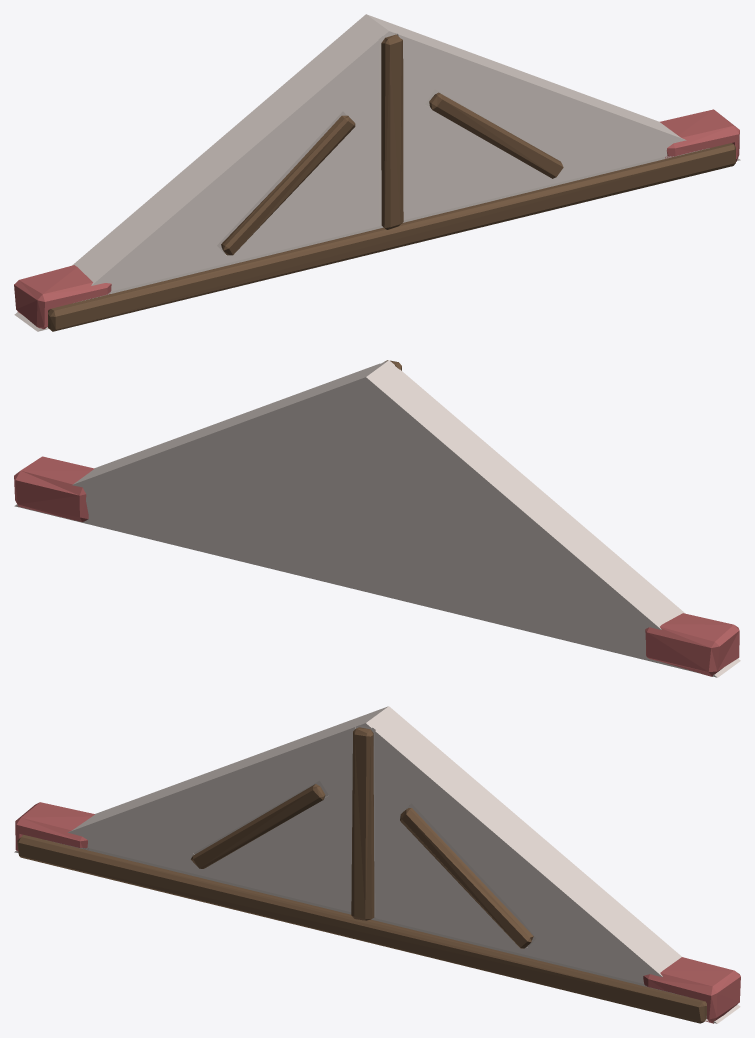
Rendered from PKF_PKX_Gable_4m_v2.fbx.
3 renders of one model, top to bottom at view 1: azimuth 30°, elevation 25°; view 2: azimuth 150°, elevation 25°; view 3: azimuth 330°, elevation 25°, orthographic.
Parts seen in each view (by area): view 1: PKX_Gable_4m_Chunk_12, PKX_Gable_4m_Chunk_02, PKX_Gable_4m_Chunk_07, PKX_Gable_4m_Chunk_01, PKX_Gable_4m_Chunk_06, PKX_Gable_4m_Chunk_10, PKX_Gable_4m_Chunk_04, PKX_Gable_4m_Chunk_09, PKX_Gable_4m_Chunk_03, PKX_Gable_4m_Chunk_11, PKX_Gable_4m_Chunk_15, PKX_Gable_4m_Chunk_08 (+4 smaller); view 2: PKX_Gable_4m_Chunk_02, PKX_Gable_4m_Chunk_01, PKX_Gable_4m_Chunk_07, PKX_Gable_4m_Chunk_06, PKX_Gable_4m_Chunk_10, PKX_Gable_4m_Chunk_04, PKX_Gable_4m_Chunk_03, PKX_Gable_4m_Chunk_11, PKX_Gable_4m_Chunk_08, PKX_Gable_4m_Chunk_09, PKX_Gable_4m_Chunk_00, PKX_Gable_4m_Chunk_05; view 3: PKX_Gable_4m_Chunk_12, PKX_Gable_4m_Chunk_07, PKX_Gable_4m_Chunk_02, PKX_Gable_4m_Chunk_01, PKX_Gable_4m_Chunk_11, PKX_Gable_4m_Chunk_04, PKX_Gable_4m_Chunk_03, PKX_Gable_4m_Chunk_15, PKX_Gable_4m_Chunk_06, PKX_Gable_4m_Chunk_10, PKX_Gable_4m_Chunk_08, PKX_Gable_4m_Chunk_14 (+4 smaller).
Part boxes in pixels (x1,y1,x2,y2): PKX_Gable_4m_Chunk_12: (48, 143, 735, 331); PKX_Gable_4m_Chunk_02: (14, 186, 289, 331); PKX_Gable_4m_Chunk_07: (460, 48, 649, 163); PKX_Gable_4m_Chunk_01: (470, 109, 740, 206); PKX_Gable_4m_Chunk_06: (165, 118, 281, 207); PKX_Gable_4m_Chunk_10: (306, 25, 381, 144); PKX_Gable_4m_Chunk_04: (273, 141, 350, 250); PKX_Gable_4m_Chunk_09: (245, 66, 330, 157); PKX_Gable_4m_Chunk_03: (403, 137, 491, 218); PKX_Gable_4m_Chunk_11: (353, 14, 482, 95); PKX_Gable_4m_Chunk_15: (381, 34, 403, 229); PKX_Gable_4m_Chunk_08: (403, 85, 469, 170); PKX_Gable_4m_Chunk_02: (456, 532, 740, 677); PKX_Gable_4m_Chunk_01: (14, 456, 292, 573); PKX_Gable_4m_Chunk_07: (105, 395, 294, 508); PKX_Gable_4m_Chunk_06: (473, 464, 589, 555); PKX_Gable_4m_Chunk_10: (355, 371, 448, 490); PKX_Gable_4m_Chunk_04: (405, 483, 483, 610); PKX_Gable_4m_Chunk_03: (263, 483, 354, 581); PKX_Gable_4m_Chunk_11: (272, 360, 401, 441); PKX_Gable_4m_Chunk_08: (285, 431, 370, 515); PKX_Gable_4m_Chunk_09: (424, 411, 510, 503); PKX_Gable_4m_Chunk_00: (324, 540, 456, 613); PKX_Gable_4m_Chunk_05: (346, 472, 419, 567); PKX_Gable_4m_Chunk_12: (17, 834, 706, 1023); PKX_Gable_4m_Chunk_07: (445, 786, 648, 945); PKX_Gable_4m_Chunk_02: (14, 780, 268, 894); PKX_Gable_4m_Chunk_01: (449, 905, 740, 1023); PKX_Gable_4m_Chunk_11: (353, 706, 482, 816); PKX_Gable_4m_Chunk_04: (248, 797, 326, 900); PKX_Gable_4m_Chunk_03: (377, 868, 468, 938); PKX_Gable_4m_Chunk_15: (351, 727, 374, 920); PKX_Gable_4m_Chunk_06: (165, 751, 266, 833); PKX_Gable_4m_Chunk_10: (305, 711, 375, 817); PKX_Gable_4m_Chunk_08: (374, 793, 446, 871); PKX_Gable_4m_Chunk_14: (400, 808, 533, 948).
Bounding box in the file's own units: 421 × 123 × 34.39.
